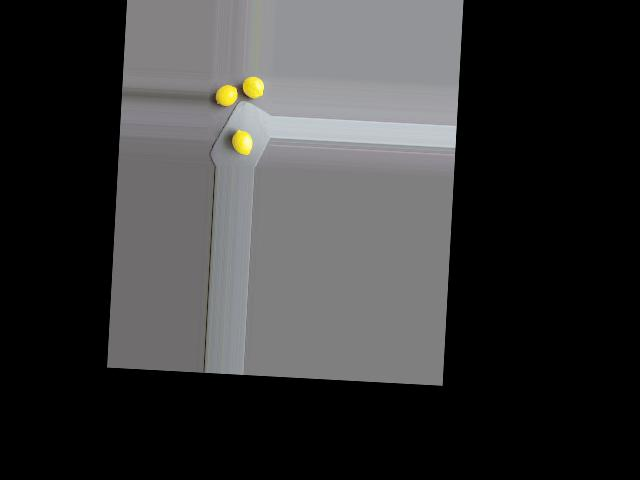lemon: (240, 74, 265, 100)
